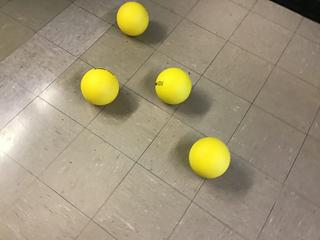power_cell: (187, 135, 232, 181), (79, 65, 122, 109), (152, 67, 195, 108), (116, 1, 151, 40)
